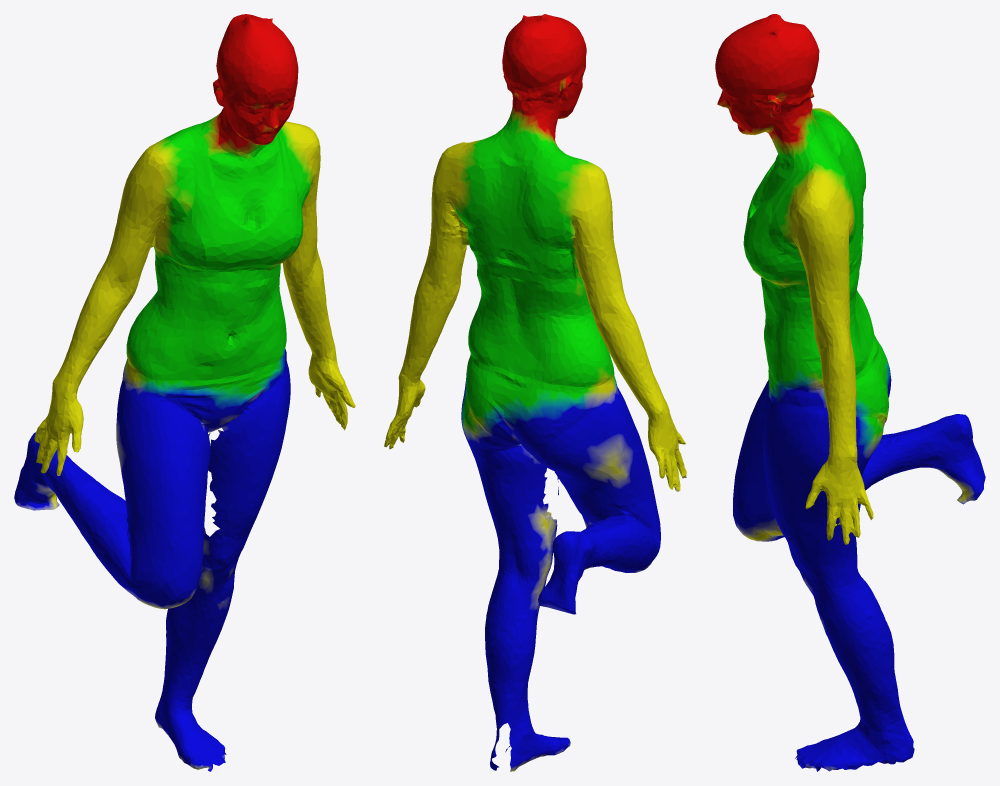
3 views of the same model, side by side, from view 1: azimuth 30°, elevation 25°; view 2: azimuth 150°, elevation 25°; view 3: azimuth 270°, elevation 25° (orthographic). The views are drawn at different scales.
Parts seen in each view (by area): view 1: 108.obj; view 2: 108.obj; view 3: 108.obj.
Boxes of the visible parts, box(x1,y1,x2,y2) form: 108.obj: box(14, 14, 355, 771); 108.obj: box(384, 14, 686, 771); 108.obj: box(715, 14, 985, 771).
Size of the model in its own units: 0.8079 by 1.92 by 0.6173.
